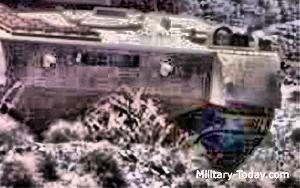tanks: (1, 1, 283, 168)
